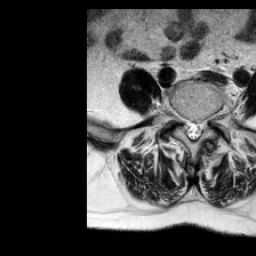CCS_normal: (190, 111, 196, 147)
LFS_stenosis: (203, 109, 212, 134)
LLS_normal: (196, 113, 203, 141)
RFS_normal: (176, 103, 183, 130)
RLS_normal: (183, 111, 190, 140)
